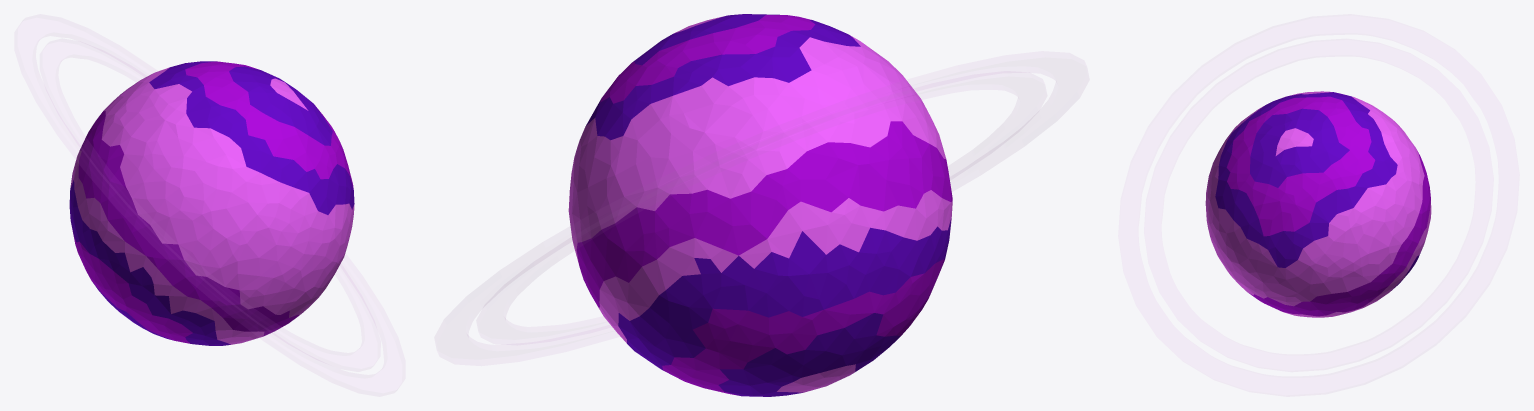
The model's file is planet5.glb.
The picture shows the model from 3 angles, left to right: view 1: azimuth 30°, elevation 25°; view 2: azimuth 150°, elevation 25°; view 3: azimuth 270°, elevation 25°; orthographic projection. The views are drawn at different scales.
Parts seen in each view (by area): view 1: Icosphere, Ring; view 2: Icosphere, Ring; view 3: Icosphere.
Part boxes in pixels (x1,y1,x2,y2): Icosphere: (69,61,354,345); Ring: (45,42,375,362); Icosphere: (568,14,952,396); Ring: (467,71,1038,345); Icosphere: (1205,91,1431,317).
Bounding box in the file's own units: 2.83 × 2.43 × 3.42.
